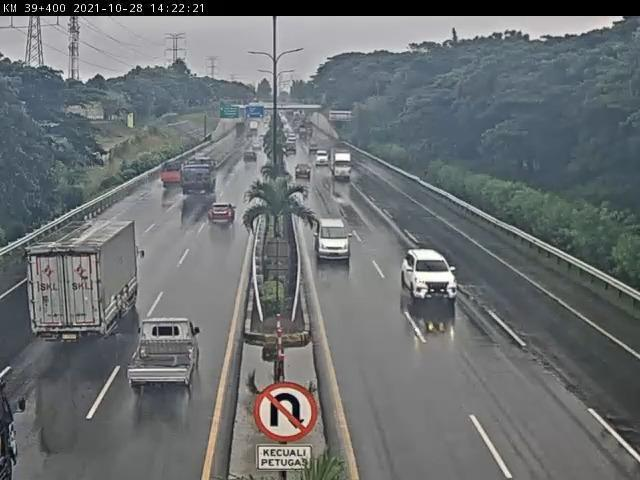car: (127, 316, 200, 395), (399, 249, 460, 306), (313, 217, 353, 263), (208, 202, 239, 228)
truck: (24, 220, 143, 347), (178, 157, 222, 199), (160, 162, 188, 189)
